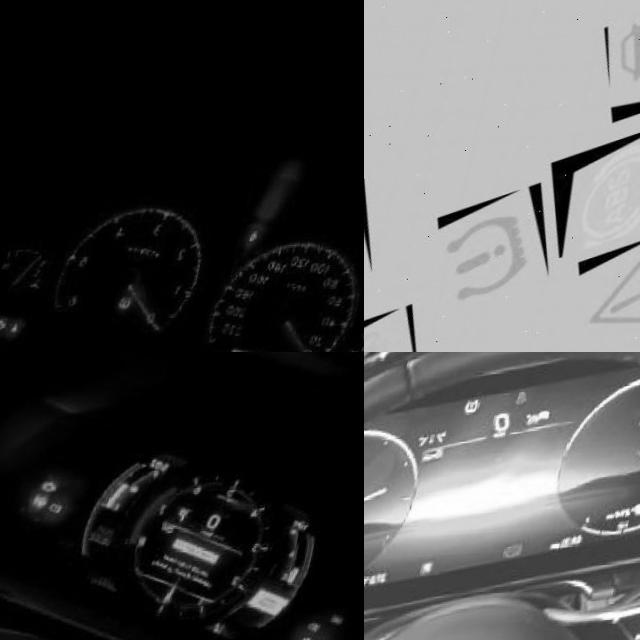High Engine Coolant Temperature: (43, 267, 63, 287)
Seat Belt: (24, 314, 41, 329)
